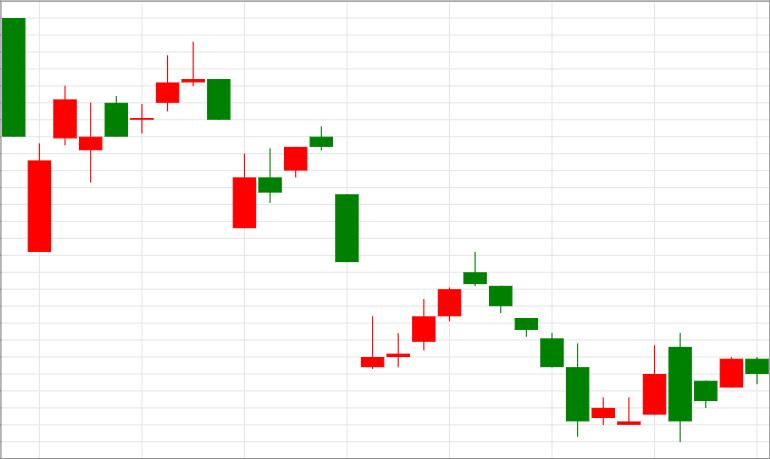evening_star_fall: (361, 253, 513, 369)
